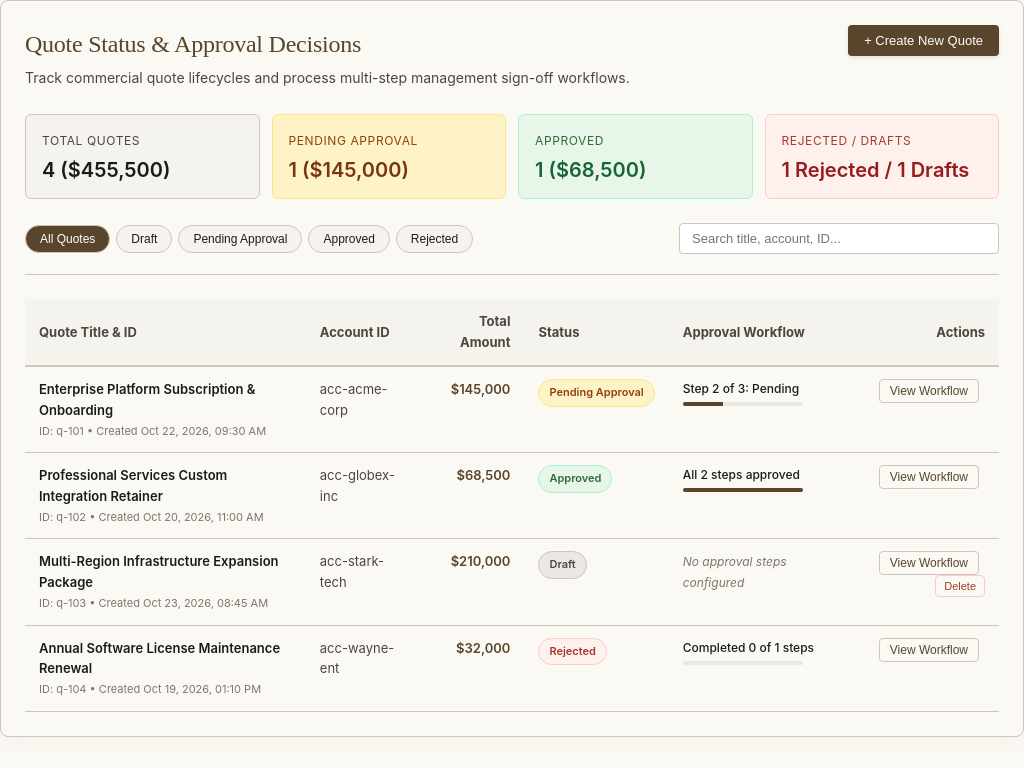
Scenario: QuoteApprovalTable Component & Helper Utilities › Filtering and Searching › displays empty state message when search query yields no matches
This screenshot has width=1024, height=768.
Type "nonexistent-query-xyz" into the field with test id "quote-approval-table-search-input" at (839, 239), box 679,223 -> 999,254
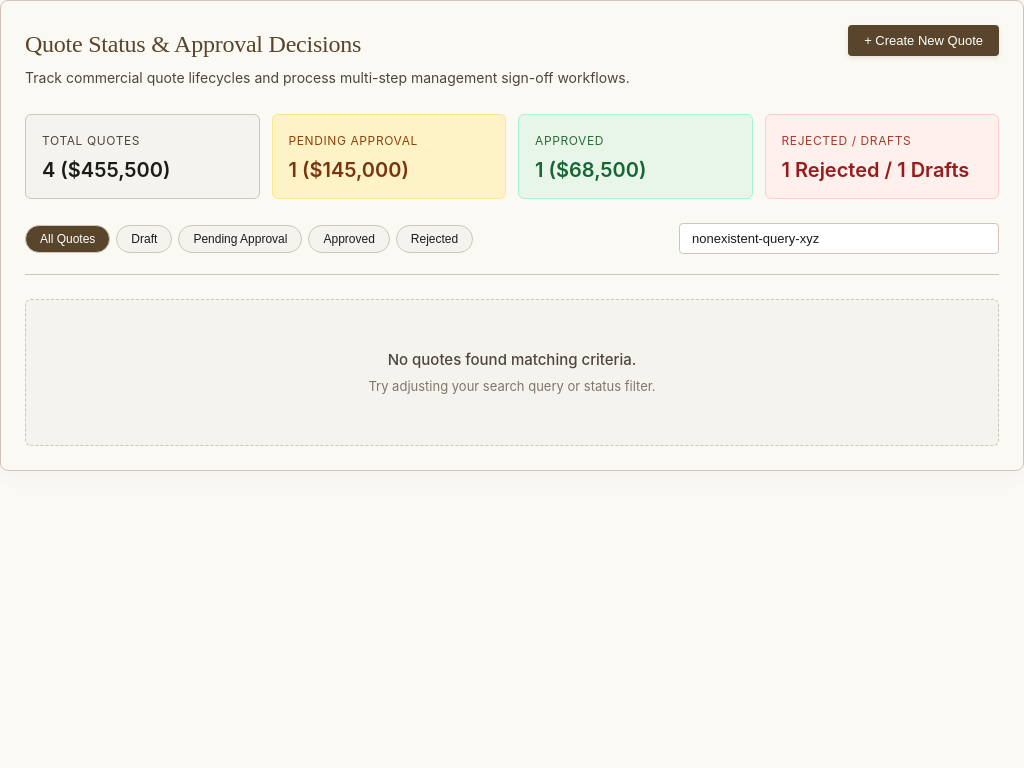
Now the element with test id "quote-approval-table-empty" shows "No quotes found matching criteria.", box 388,350 -> 636,369
